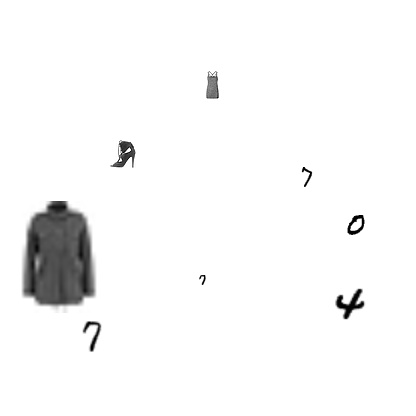0: (342, 211, 370, 239)
4: (328, 283, 370, 325)
7: (71, 311, 113, 353), (293, 161, 321, 189), (196, 272, 210, 286)
Coat: (3, 201, 115, 313)
Sandal: (109, 140, 137, 168)
T-shirt/top: (198, 71, 226, 99)
